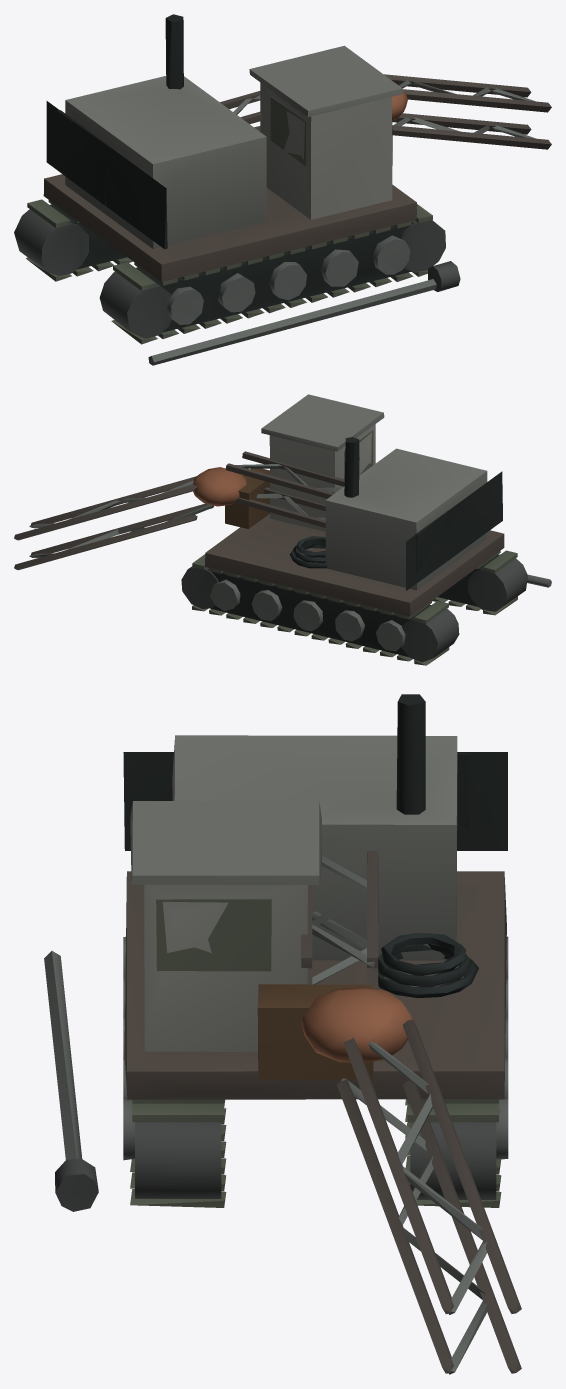
File: drill_rig_b_lod2.glb
3 views of the same model, one above another, from view 1: azimuth 30°, elevation 25°; view 2: azimuth 150°, elevation 25°; view 3: azimuth 270°, elevation 25° (orthographic). The views are drawn at different scales.
Visible parts, largest first — view 1: Surface.001; view 2: Surface.001; view 3: Surface.001.
Boxes of the visible parts, x1,y1,x2,y2 form: Surface.001: (14,14,551,365); Surface.001: (14,394,551,665); Surface.001: (44,694,521,1374).
Bounding box in the file's own units: 8.12 × 3.47 × 4.
